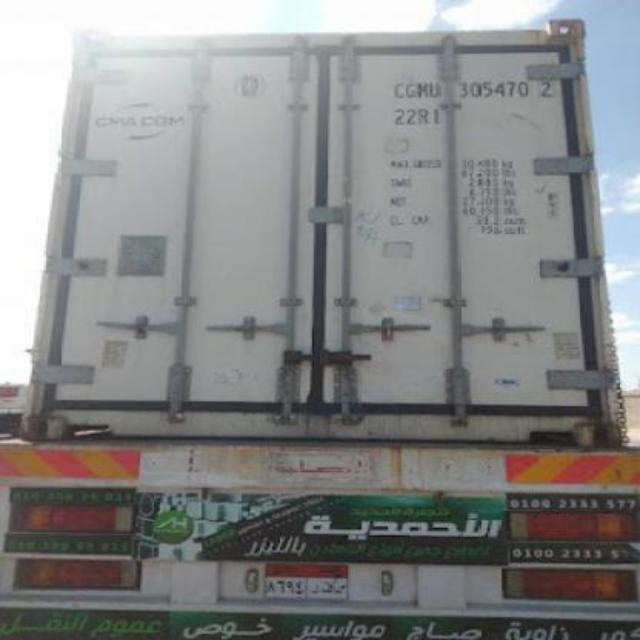0: (516, 68, 530, 98), (470, 77, 480, 97)
2: (540, 78, 554, 99)
3: (456, 80, 468, 100)
4: (492, 69, 508, 101)
5: (482, 72, 494, 100)
7: (506, 69, 520, 101)
C: (392, 78, 404, 100)
G: (402, 78, 416, 102)
M: (414, 78, 428, 100)
U: (426, 76, 442, 102)
